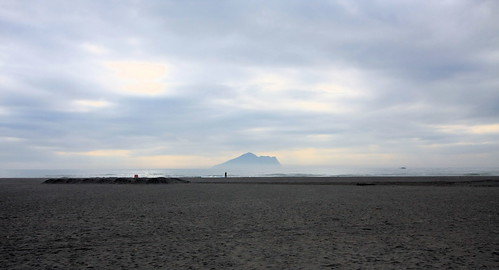turtleIsland: (209, 152, 282, 167)
